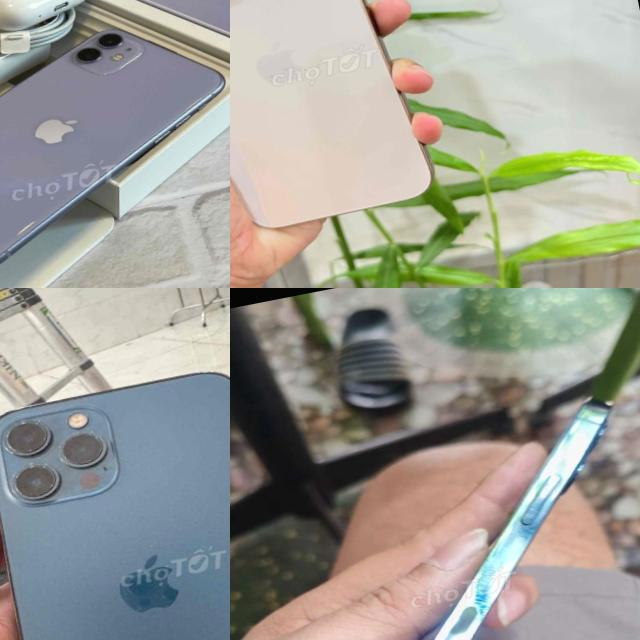gen_11: (0, 29, 223, 262)
gen_12_13: (239, 386, 640, 640), (0, 346, 230, 640)
gen_16: (230, 0, 432, 226)
